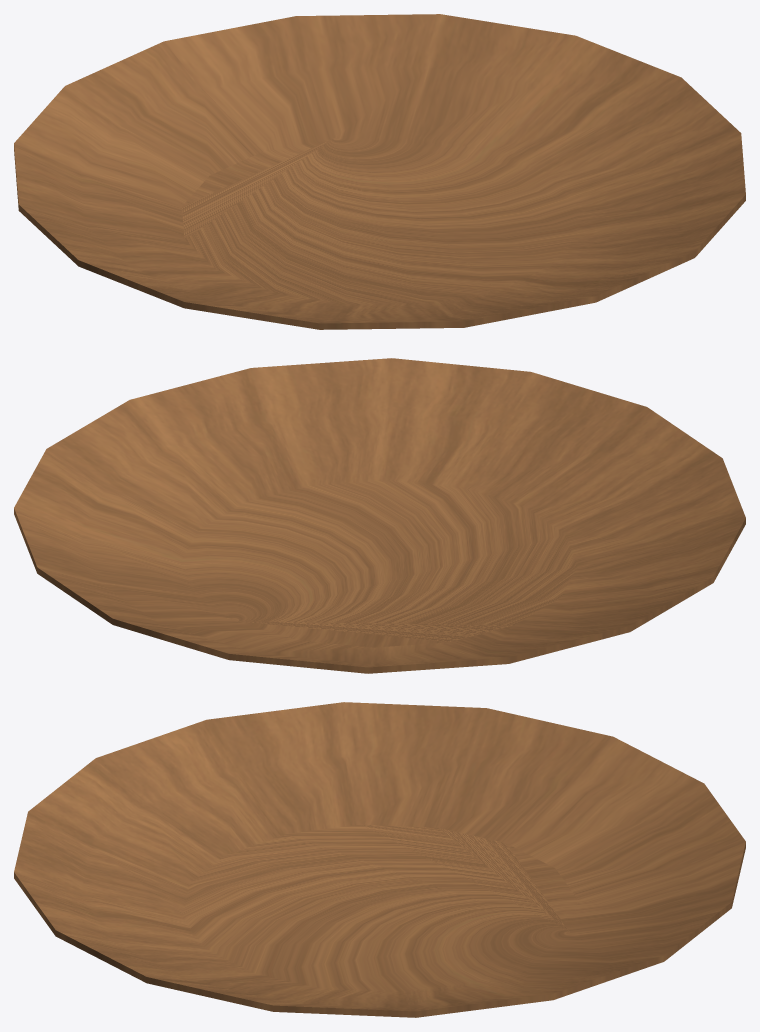
Rendered from Plato_V3.fbx.
3 renders of one model, top to bottom at view 1: azimuth 30°, elevation 25°; view 2: azimuth 150°, elevation 25°; view 3: azimuth 270°, elevation 25°, orthographic.
Visible parts, largest first — view 1: Platos_V3; view 2: Platos_V3; view 3: Platos_V3.
Part boxes in pixels (bbox=[...]): Platos_V3: bbox=[14, 14, 745, 329]; Platos_V3: bbox=[14, 358, 745, 673]; Platos_V3: bbox=[14, 702, 745, 1017].
Bounding box in the file's own units: 140 × 12.18 × 140.
Materials: 1 (1 with a texture image).
